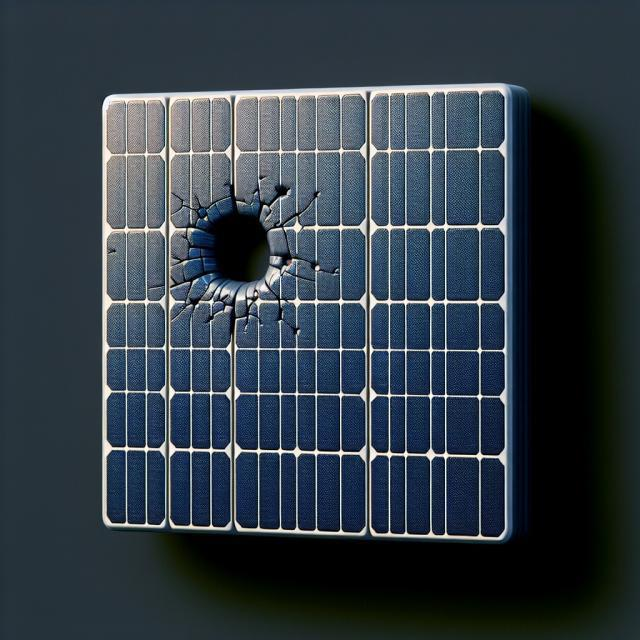Anomaly Solar Panel: (103, 90, 505, 540)
Structural Damage: (149, 163, 316, 345), (281, 181, 319, 232), (271, 225, 310, 270), (163, 259, 211, 289), (168, 277, 197, 326), (167, 190, 209, 220), (258, 275, 291, 311), (166, 247, 199, 268), (283, 269, 317, 286), (269, 179, 293, 198), (206, 193, 231, 207), (147, 282, 163, 290), (281, 319, 293, 329)
